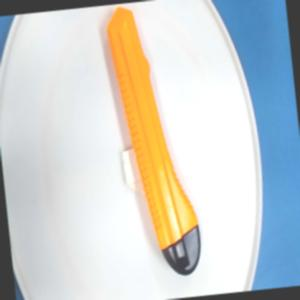estilete: (103, 0, 203, 281)
